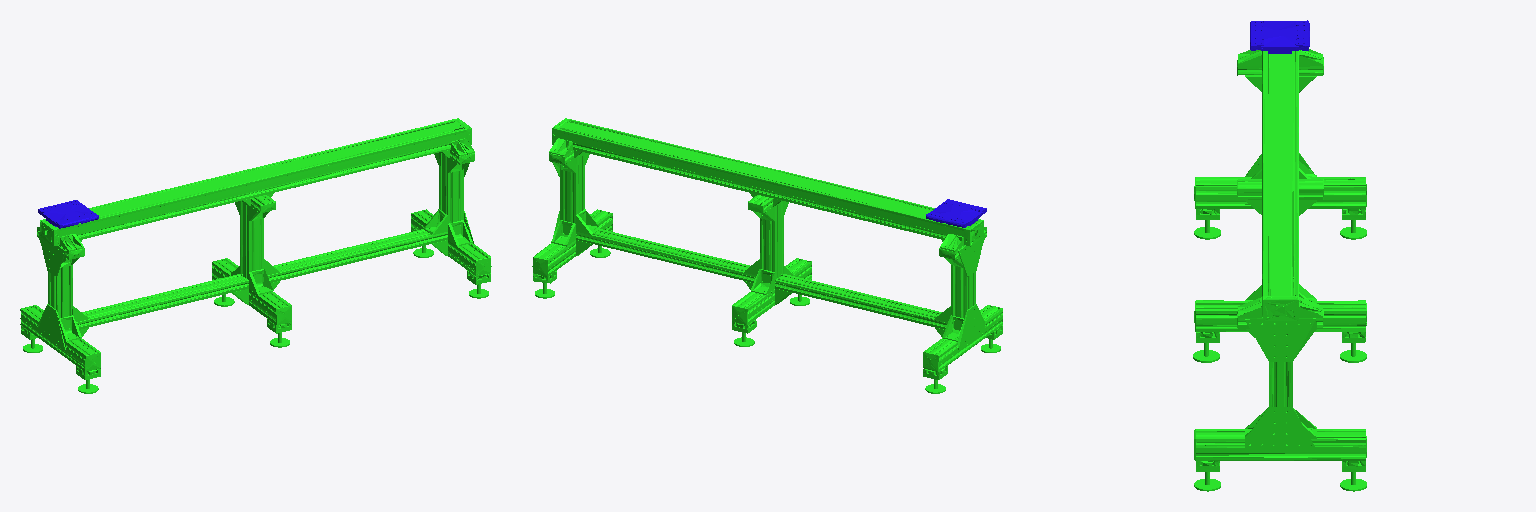
URDF robot description (linear_axis):
<?xml version="1.0"?>
<robot xmlns:xacro="http://ros.org/wiki/xacro" name="linear_axis">

	<!-- Create a link for the axis -->
	<link name="axis_link_0">
		<visual>
			<origin xyz="0 0 0" rpy="0 0 0"/>
			<geometry>
				<mesh filename="package://urdf_test/meshes/AxisSimplified.stl" scale="0.001 0.001 0.001"/>
			</geometry>
			<material name="green">
				<color rgba="0.2 1 0.2 1"/>
			</material>
		</visual>
		<collision>
			<geometry>
				<mesh filename="package://urdf_test/meshes/AxisSimplified.stl" scale="0.001 0.001 0.001"/>
			</geometry>
		</collision>
		<inertial>
			<origin xyz="0 0 0" rpy="0 0 0"/>
			<mass value="128"/>
			<inertia ixx="1.0" ixy="0.0" ixz="0.0" iyy="1.0" iyz="0.0" izz="1.0"/>
		</inertial>
	</link>

	<!-- Create a joint to move the slider along the axis -->
	<joint name="axis_to_slider" type="prismatic">
		<!-- Make it start at one end of the axis -->
		<origin xyz="0.1008719 0.324412 0.8068726" rpy="0 0 0"/>
		<parent link="axis_link_0"/>
		<child link="axis_link_1"/>
		<axis xyz="1 0 0"/>
		<limit lower="0" upper="2.3" velocity="0.1" effort="100"/>
	</joint>

	<!-- Create a link for the slider -->
	<link name="axis_link_1">
		<visual>
			<origin xyz="0 0 0" rpy="0 0 0"/>
			<geometry>
				<mesh filename="package://urdf_test/meshes/Slider.stl" scale="0.001 0.001 0.001"/>
			</geometry>
			<material name="blue">
				<color rgba="0.2 0.1 1 1"/>
			</material>
		</visual>
		<collision>
			<geometry>
				<mesh filename="package://urdf_test/meshes/Slider.stl" scale="0.001 0.001 0.001"/>
			</geometry>
		</collision>
		<inertial>
			<origin xyz="0 0 0" rpy="0 0 0"/>
			<mass value="0.3"/>
			<inertia ixx="0.01" ixy="0.0" ixz="0.0" iyy="0.01" iyz="0.0" izz="0.01"/>
		</inertial>
	</link>

</robot>

--- What the picture shows (computed from the rendered views, not written in the file) ---
3 views of the same robot in one strip: view 1: azimuth 30°, elevation 25°; view 2: azimuth 150°, elevation 25°; view 3: azimuth 270°, elevation 25° (orthographic).
Model linear_axis with 2 links and 1 joints (1 prismatic), rooted at axis_link_0, posed every joint at zero.
Visible links, largest first — view 1: axis_link_0, axis_link_1; view 2: axis_link_0, axis_link_1; view 3: axis_link_0, axis_link_1.
Link boxes in pixels (<box>): axis_link_0: <box>20,118,491,393</box>; axis_link_1: <box>38,200,98,228</box>; axis_link_0: <box>532,118,1002,393</box>; axis_link_1: <box>926,199,986,227</box>; axis_link_0: <box>1193,49,1366,491</box>; axis_link_1: <box>1250,20,1309,53</box>.
Size in the robot's own frame: 2.38 by 0.645 by 0.8392 metres.
Meshes: 2 distinct files referenced, 2 mesh visuals loaded (2 binary STL).